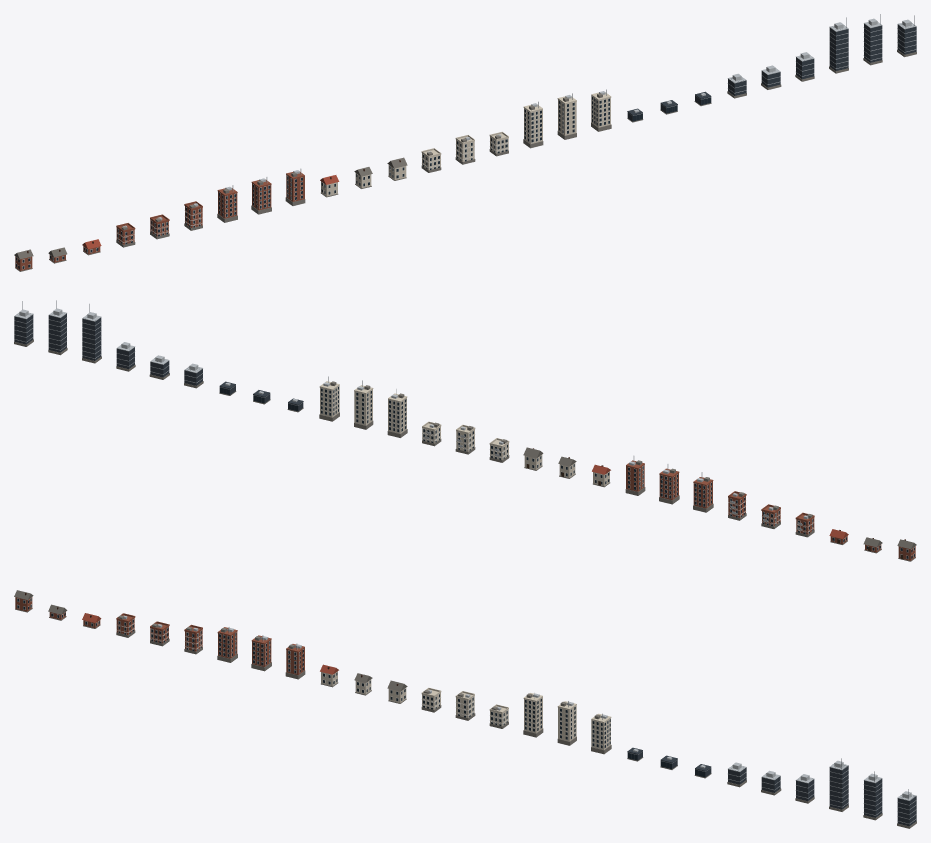
The model's file is buildings.glb.
3 views of the same model, one above another, from view 1: azimuth 30°, elevation 25°; view 2: azimuth 150°, elevation 25°; view 3: azimuth 330°, elevation 25° (orthographic).
Visible parts, largest first — view 1: glass_high, glass_high_v2, plaster_high, plaster_high_v2, plaster_high_v3, glass_high_v3, brick_high, brick_high_v2, brick_high_v3; view 2: glass_high, glass_high_v2, plaster_high, plaster_high_v2, plaster_high_v3, glass_high_v3, brick_high, brick_high_v2, brick_high_v3; view 3: glass_high, glass_high_v2, plaster_high, plaster_high_v2, plaster_high_v3, glass_high_v3, brick_high, brick_high_v2, brick_high_v3, plaster_mid_v2, glass_mid_v3.
Boxes of the visible parts, x1,y1,x2,y2 form: glass_high: (829, 17, 848, 73); glass_high_v2: (863, 14, 882, 65); plaster_high: (523, 101, 543, 148); plaster_high_v2: (557, 93, 576, 139); plaster_high_v3: (591, 89, 611, 131); glass_high_v3: (897, 15, 916, 57); brick_high: (217, 185, 237, 222); brick_high_v2: (251, 177, 271, 214); brick_high_v3: (285, 168, 305, 205); glass_high: (82, 304, 101, 363); glass_high_v2: (48, 300, 67, 355); plaster_high: (387, 389, 407, 437); plaster_high_v2: (354, 380, 373, 429); plaster_high_v3: (319, 376, 339, 421); glass_high_v3: (14, 301, 33, 346); brick_high: (693, 472, 713, 512); brick_high_v2: (659, 464, 679, 504); brick_high_v3: (625, 455, 645, 495); glass_high: (829, 758, 848, 811); glass_high_v2: (863, 771, 882, 820); plaster_high: (523, 693, 543, 737); plaster_high_v2: (557, 701, 576, 745); plaster_high_v3: (591, 713, 611, 754); glass_high_v3: (897, 789, 916, 828); brick_high: (217, 627, 237, 662); brick_high_v2: (251, 635, 271, 671); brick_high_v3: (285, 643, 305, 679); plaster_mid_v2: (455, 691, 475, 720); glass_mid_v3: (795, 774, 814, 803).
Bounding box in the file's own units: 211 × 11.9 × 3.4.
